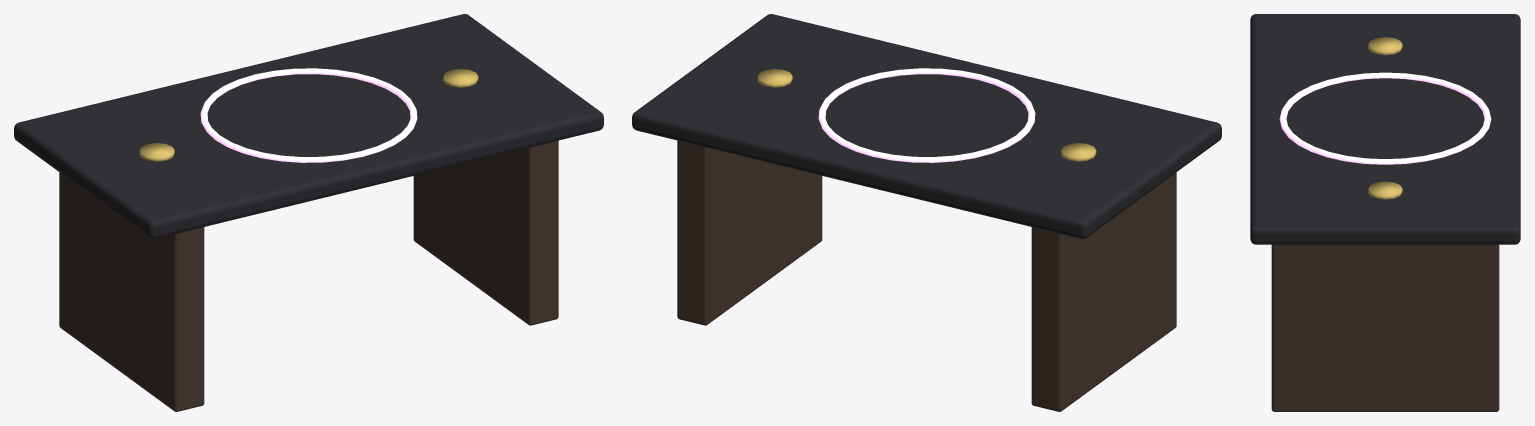
Rendered from table_ritual_inlay.glb.
The picture shows the model from 3 angles, left to right: view 1: azimuth 30°, elevation 25°; view 2: azimuth 150°, elevation 25°; view 3: azimuth 270°, elevation 25°; orthographic projection. The views are drawn at different scales.
Parts seen in each view (by area): view 1: GD_table_ritual_inlay__m0, GD_table_ritual_inlay__m3, GD_table_ritual_inlay__m1, GD_table_ritual_inlay__m2; view 2: GD_table_ritual_inlay__m0, GD_table_ritual_inlay__m3, GD_table_ritual_inlay__m1, GD_table_ritual_inlay__m2; view 3: GD_table_ritual_inlay__m0, GD_table_ritual_inlay__m3, GD_table_ritual_inlay__m1, GD_table_ritual_inlay__m2.
Part boxes in pixels (x1=…): GD_table_ritual_inlay__m0: x1=14, y1=14, x2=603, y2=238; GD_table_ritual_inlay__m3: x1=59, y1=140, x2=558, y2=411; GD_table_ritual_inlay__m1: x1=200, y1=68, x2=417, y2=162; GD_table_ritual_inlay__m2: x1=139, y1=69, x2=478, y2=161; GD_table_ritual_inlay__m0: x1=632, y1=14, x2=1221, y2=238; GD_table_ritual_inlay__m3: x1=677, y1=140, x2=1176, y2=411; GD_table_ritual_inlay__m1: x1=818, y1=68, x2=1035, y2=162; GD_table_ritual_inlay__m2: x1=757, y1=69, x2=1096, y2=161; GD_table_ritual_inlay__m0: x1=1250, y1=14, x2=1520, y2=244; GD_table_ritual_inlay__m3: x1=1271, y1=244, x2=1499, y2=411; GD_table_ritual_inlay__m1: x1=1279, y1=72, x2=1491, y2=164; GD_table_ritual_inlay__m2: x1=1368, y1=37, x2=1402, y2=199.
Bounding box in the file's own units: 1.8 × 0.797 × 0.95.
